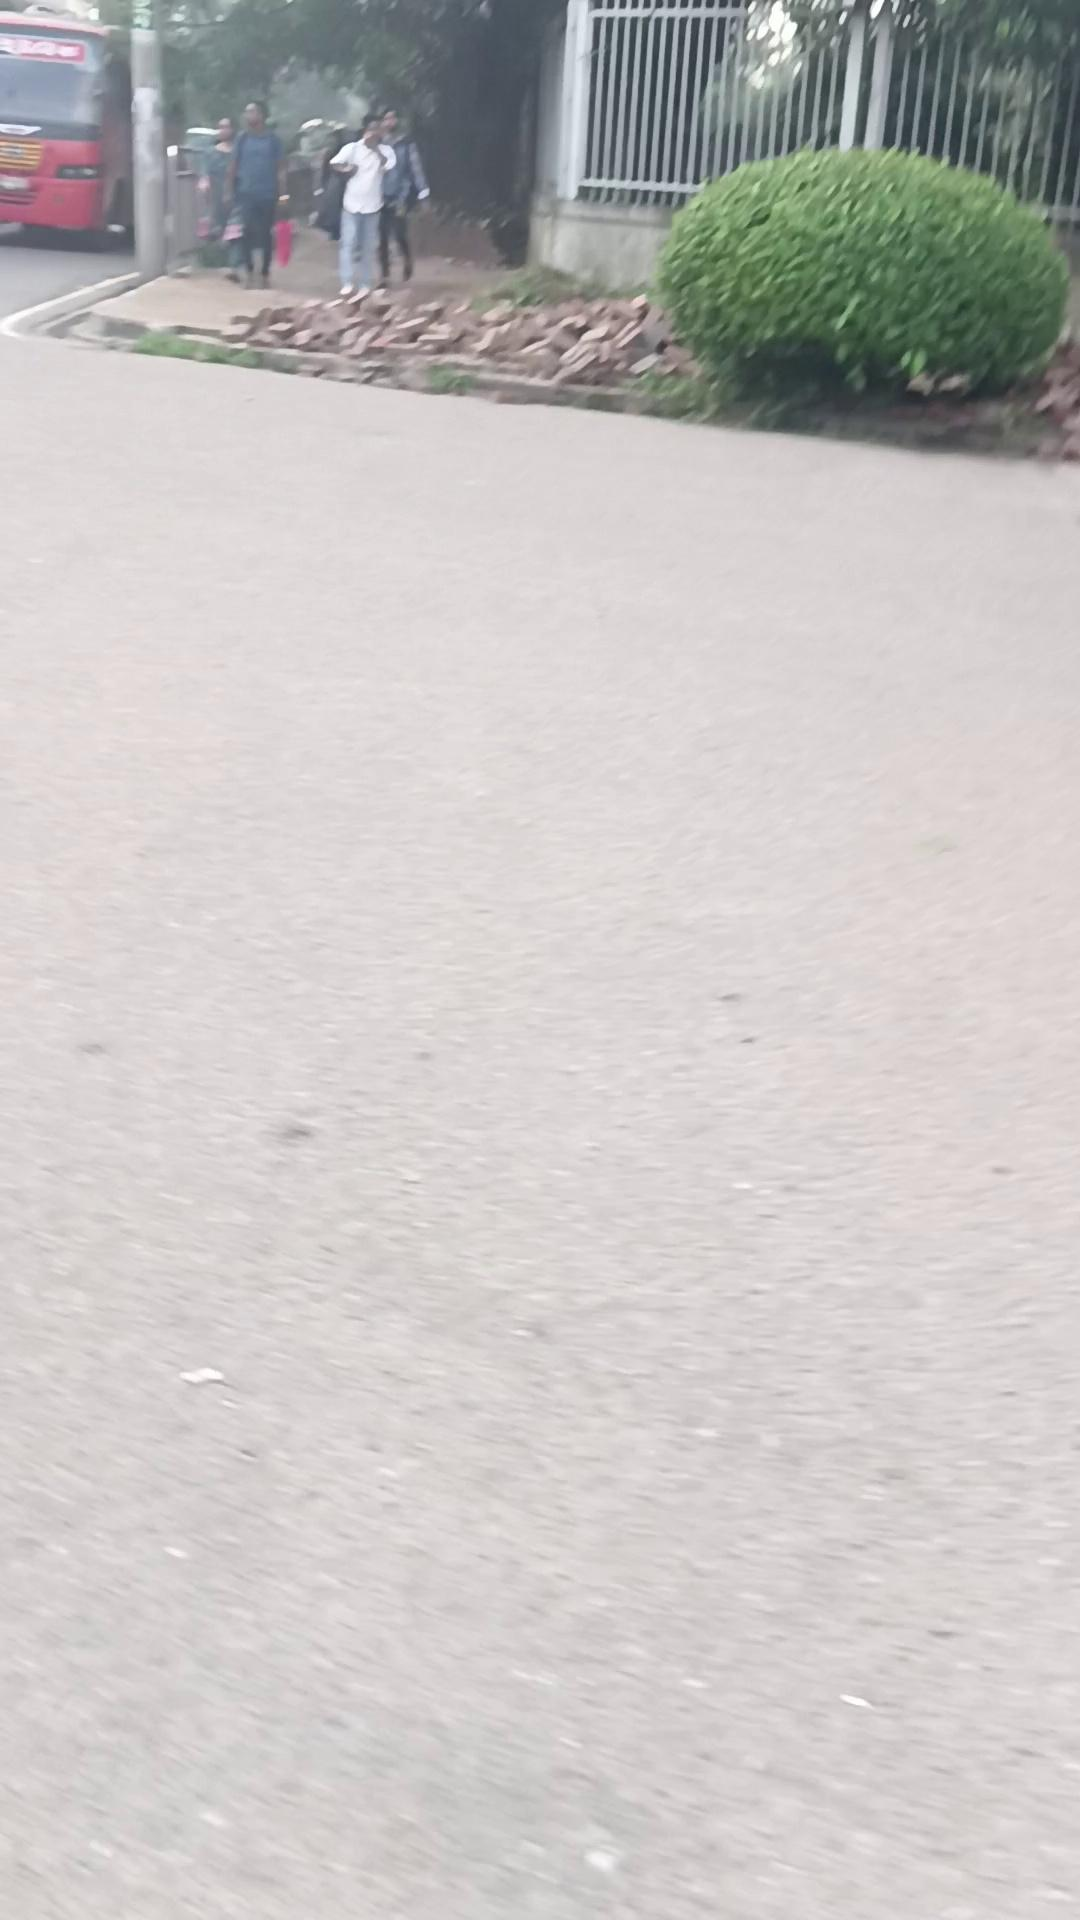Crosswalk: (1, 265, 142, 342)
Motorcycle: (214, 289, 665, 384)
Muddy road: (327, 112, 397, 295), (222, 100, 286, 287), (375, 105, 431, 284), (195, 117, 236, 239)
Obstacle: (128, 26, 167, 281)
Pole: (647, 140, 1071, 409)
Traffic-sign: (0, 7, 135, 248)
